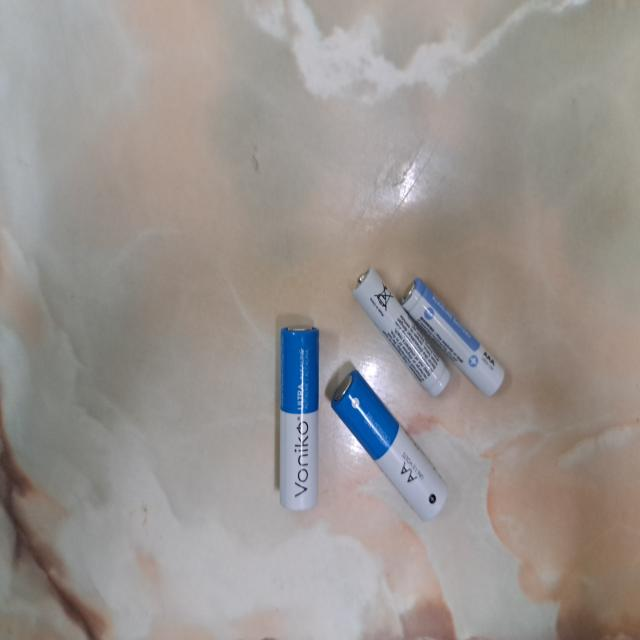battery: (330, 367, 448, 522), (399, 277, 506, 398), (354, 269, 451, 398), (280, 325, 320, 511)
